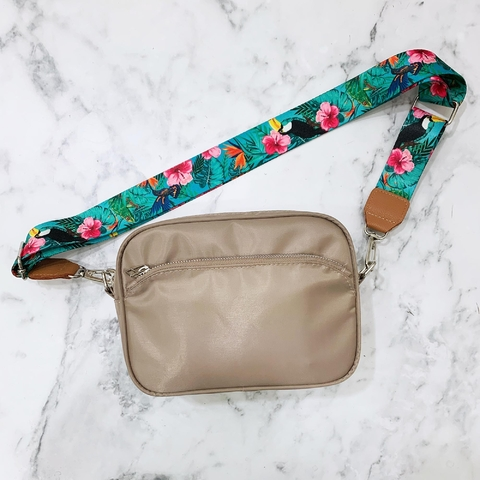cartera: (12, 39, 478, 414)
cuero: (98, 194, 379, 400)
